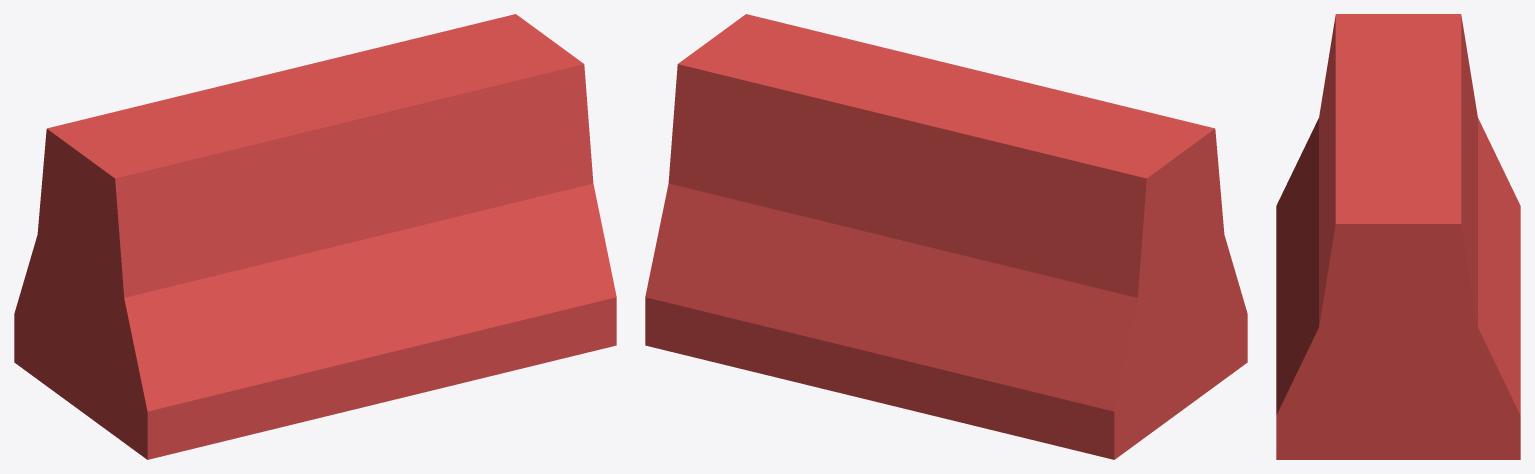
File: barrierRed.glb
3 renders of one model, left to right at view 1: azimuth 30°, elevation 25°; view 2: azimuth 150°, elevation 25°; view 3: azimuth 270°, elevation 25°, orthographic. The views are drawn at different scales.
Parts seen in each view (by area): view 1: node_id4; view 2: node_id4; view 3: node_id4.
Part boxes in pixels (left/top/right/bottom): node_id4: left=14, top=14, right=616, bottom=459; node_id4: left=645, top=14, right=1247, bottom=459; node_id4: left=1276, top=14, right=1520, bottom=459.
Size of the model in its own units: 0.512 by 0.2687 by 0.2519.
Materials: 1 (1 with a texture image).
